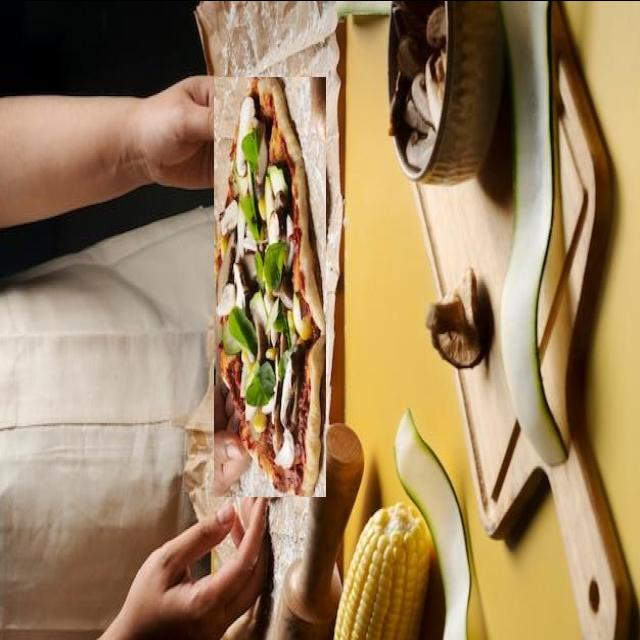basil: (229, 215, 258, 266), (246, 167, 276, 210), (239, 332, 259, 378), (266, 281, 284, 330), (242, 400, 258, 445), (277, 192, 290, 226), (254, 283, 264, 323), (274, 241, 286, 262)
pizza: (215, 76, 326, 496)
